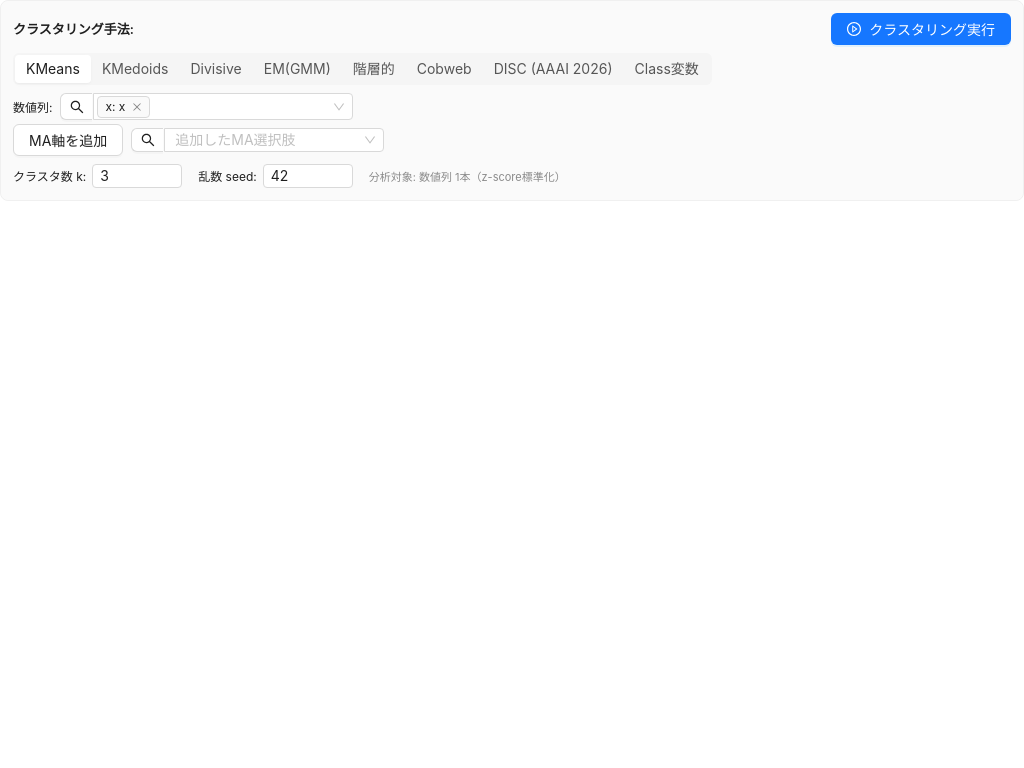
Test: shows the actual input population, dropped columns and numeric imputation separately
What coordinates should you click on to do the following:
click the button with test id "run-clustering"
I would click on:
 (921, 29)
Its box is [831, 13, 1011, 45].
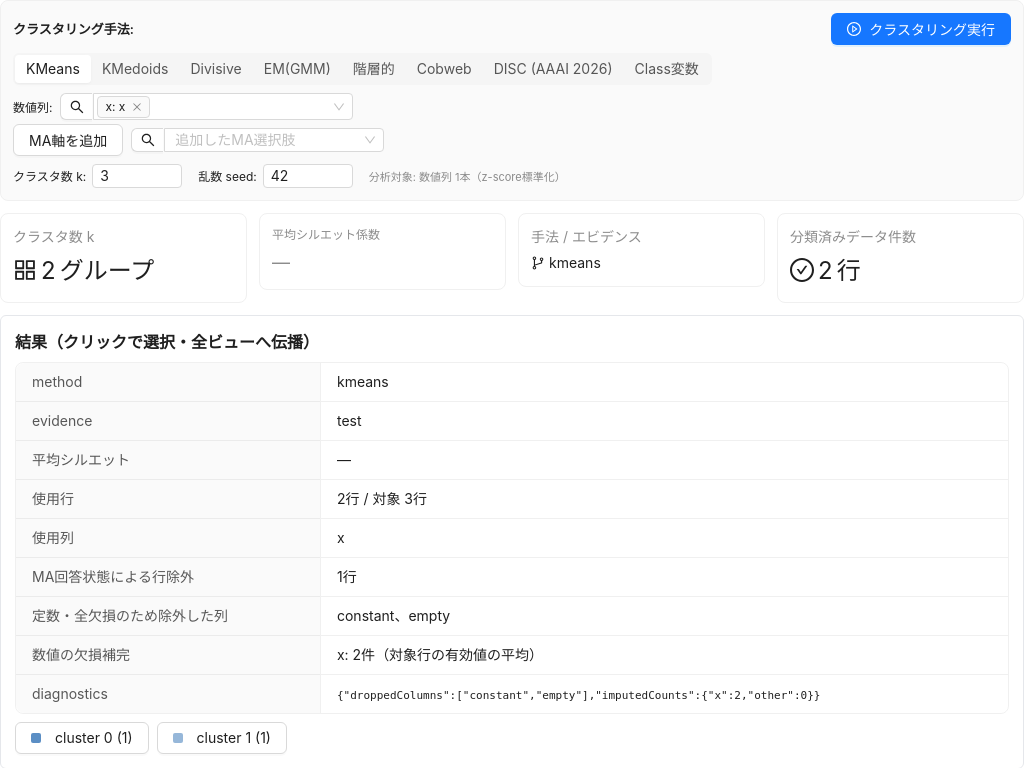
Now the text "2行 / 対象 3行" is shown, box [337, 490, 427, 507]
Now the row "使用列 x" is shown, box [16, 518, 1008, 557]
Now the row "MA回答状態による行除外 1行" is shown, box [16, 557, 1008, 596]
